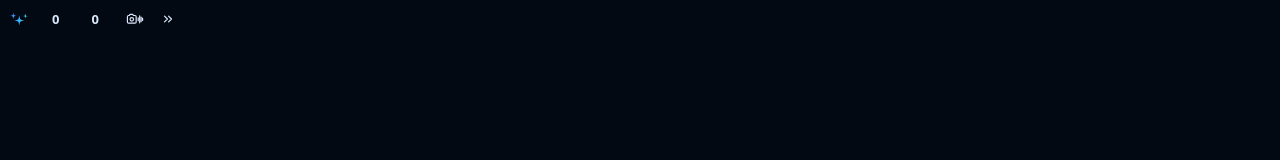
HelperApp › the three context-menu items are all present
Expected: the button with test id "helper-needs-you" is shown, x1=32 y1=7 x2=67 y2=31
Right-click the element with test id "helper-root" at [94, 19], box x1=10 y1=6 x2=179 y2=32
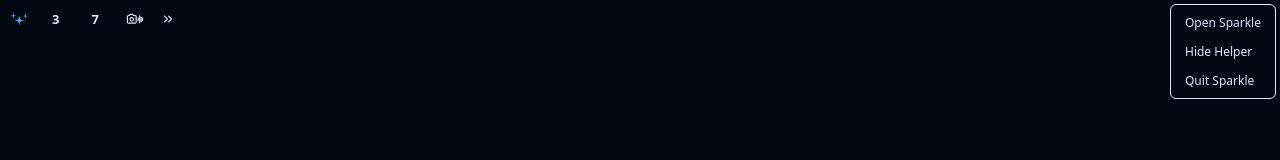
Expected: the menu is shown, x1=1170 y1=4 x2=1276 y2=99
Expected: the button "Open Sparkle" is shown, x1=1175 y1=9 x2=1271 y2=36
Expected: the button "Hide Helper" is shown, x1=1175 y1=38 x2=1271 y2=65
